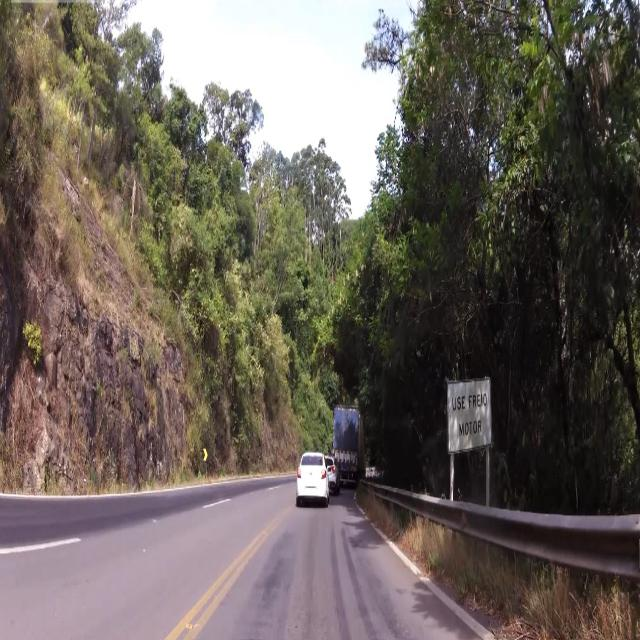E-5: (450, 382, 492, 452)
